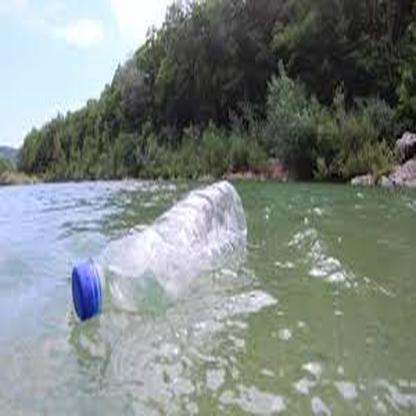plastic bottle: (71, 180, 250, 318)
